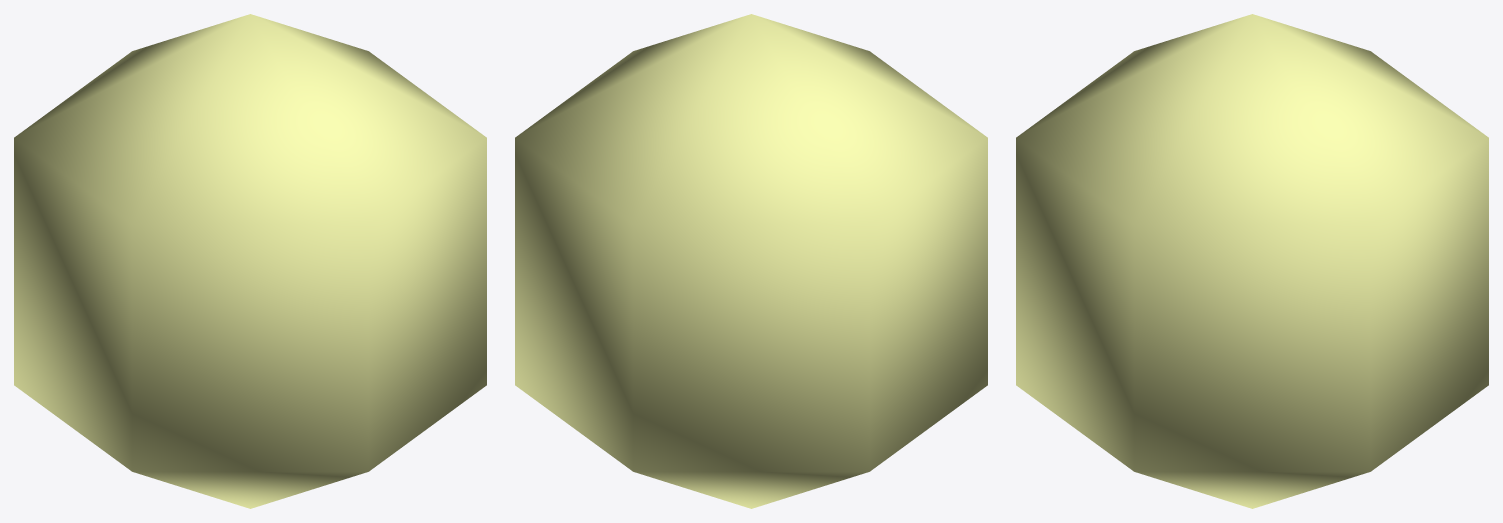
3 views of the same model, side by side, from view 1: azimuth 30°, elevation 25°; view 2: azimuth 150°, elevation 25°; view 3: azimuth 270°, elevation 25° (orthographic).
Visible parts, largest first — view 1: Sphere001; view 2: Sphere001; view 3: Sphere001.
Boxes of the visible parts, x1,y1,x2,y2 form: Sphere001: (14, 14, 486, 508); Sphere001: (515, 14, 987, 508); Sphere001: (1016, 14, 1488, 508).
Bounding box in the file's own units: 4.64 × 6.19 × 5.36.
Materials: 1 (1 with a texture image).
